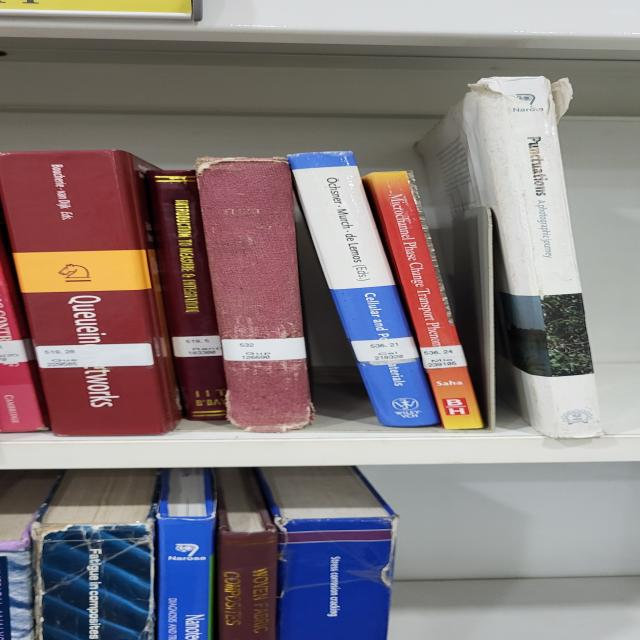Book: (0, 150, 181, 436), (284, 151, 441, 426), (195, 158, 314, 432), (365, 171, 484, 429), (146, 170, 227, 420)
Label: (35, 342, 154, 369), (352, 336, 419, 365), (222, 338, 306, 361), (170, 335, 222, 358), (419, 345, 465, 369)
